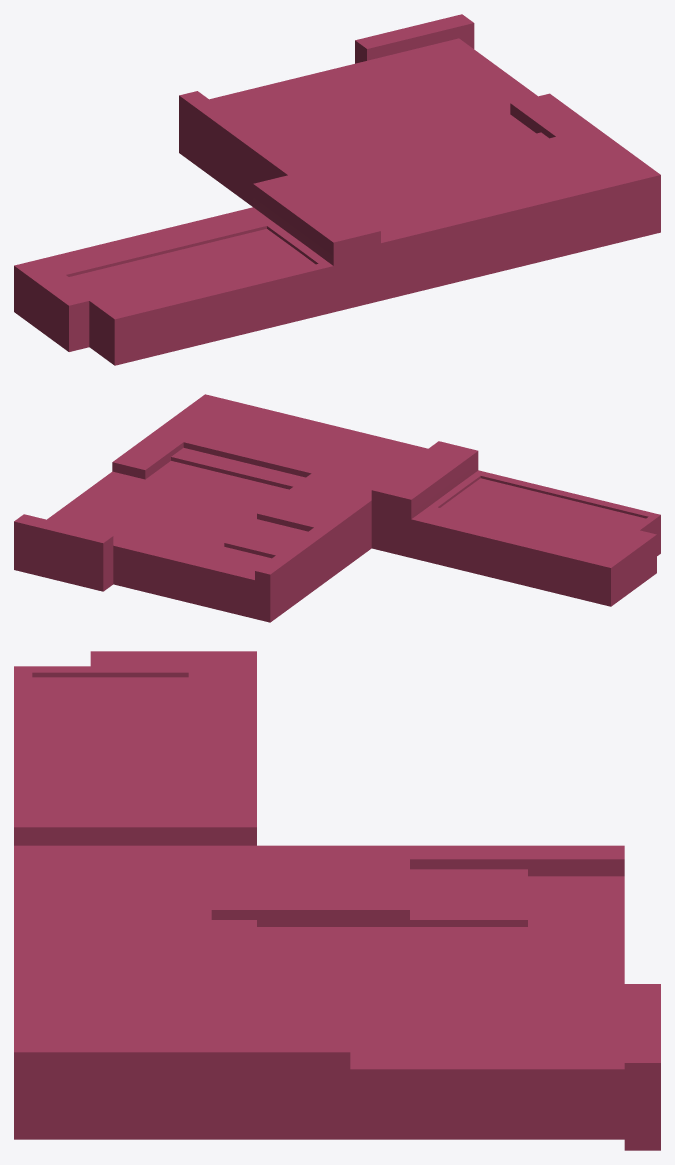
Rendered from SM_Sir_Alexander_Flemming_Building.fbx.
The picture shows the model from 3 angles, top to bottom: view 1: azimuth 30°, elevation 25°; view 2: azimuth 150°, elevation 25°; view 3: azimuth 270°, elevation 25°; orthographic projection. The views are drawn at different scales.
Visible parts, largest first — view 1: SM_Sir_Alexander_Flemming_Building; view 2: SM_Sir_Alexander_Flemming_Building; view 3: SM_Sir_Alexander_Flemming_Building.
Part boxes in pixels (x1,y1,x2,y2): SM_Sir_Alexander_Flemming_Building: (14, 14, 660, 365); SM_Sir_Alexander_Flemming_Building: (14, 394, 660, 622); SM_Sir_Alexander_Flemming_Building: (14, 651, 660, 1150).
Bounding box in the file's own units: 87.75 × 10.06 × 55.88.
